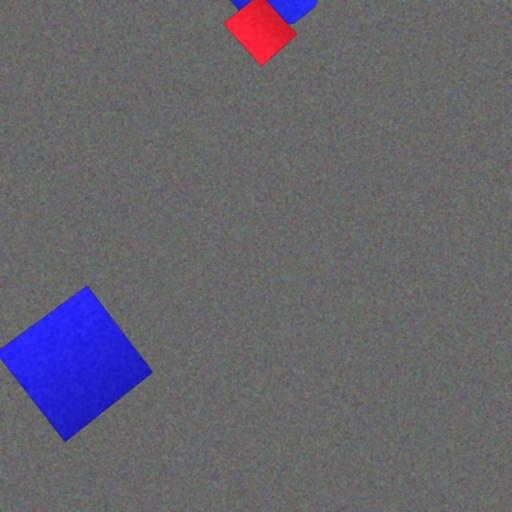BLUE_SQUARE: (0, 285, 154, 443)
RED_SQUARE: (222, 0, 298, 67)
